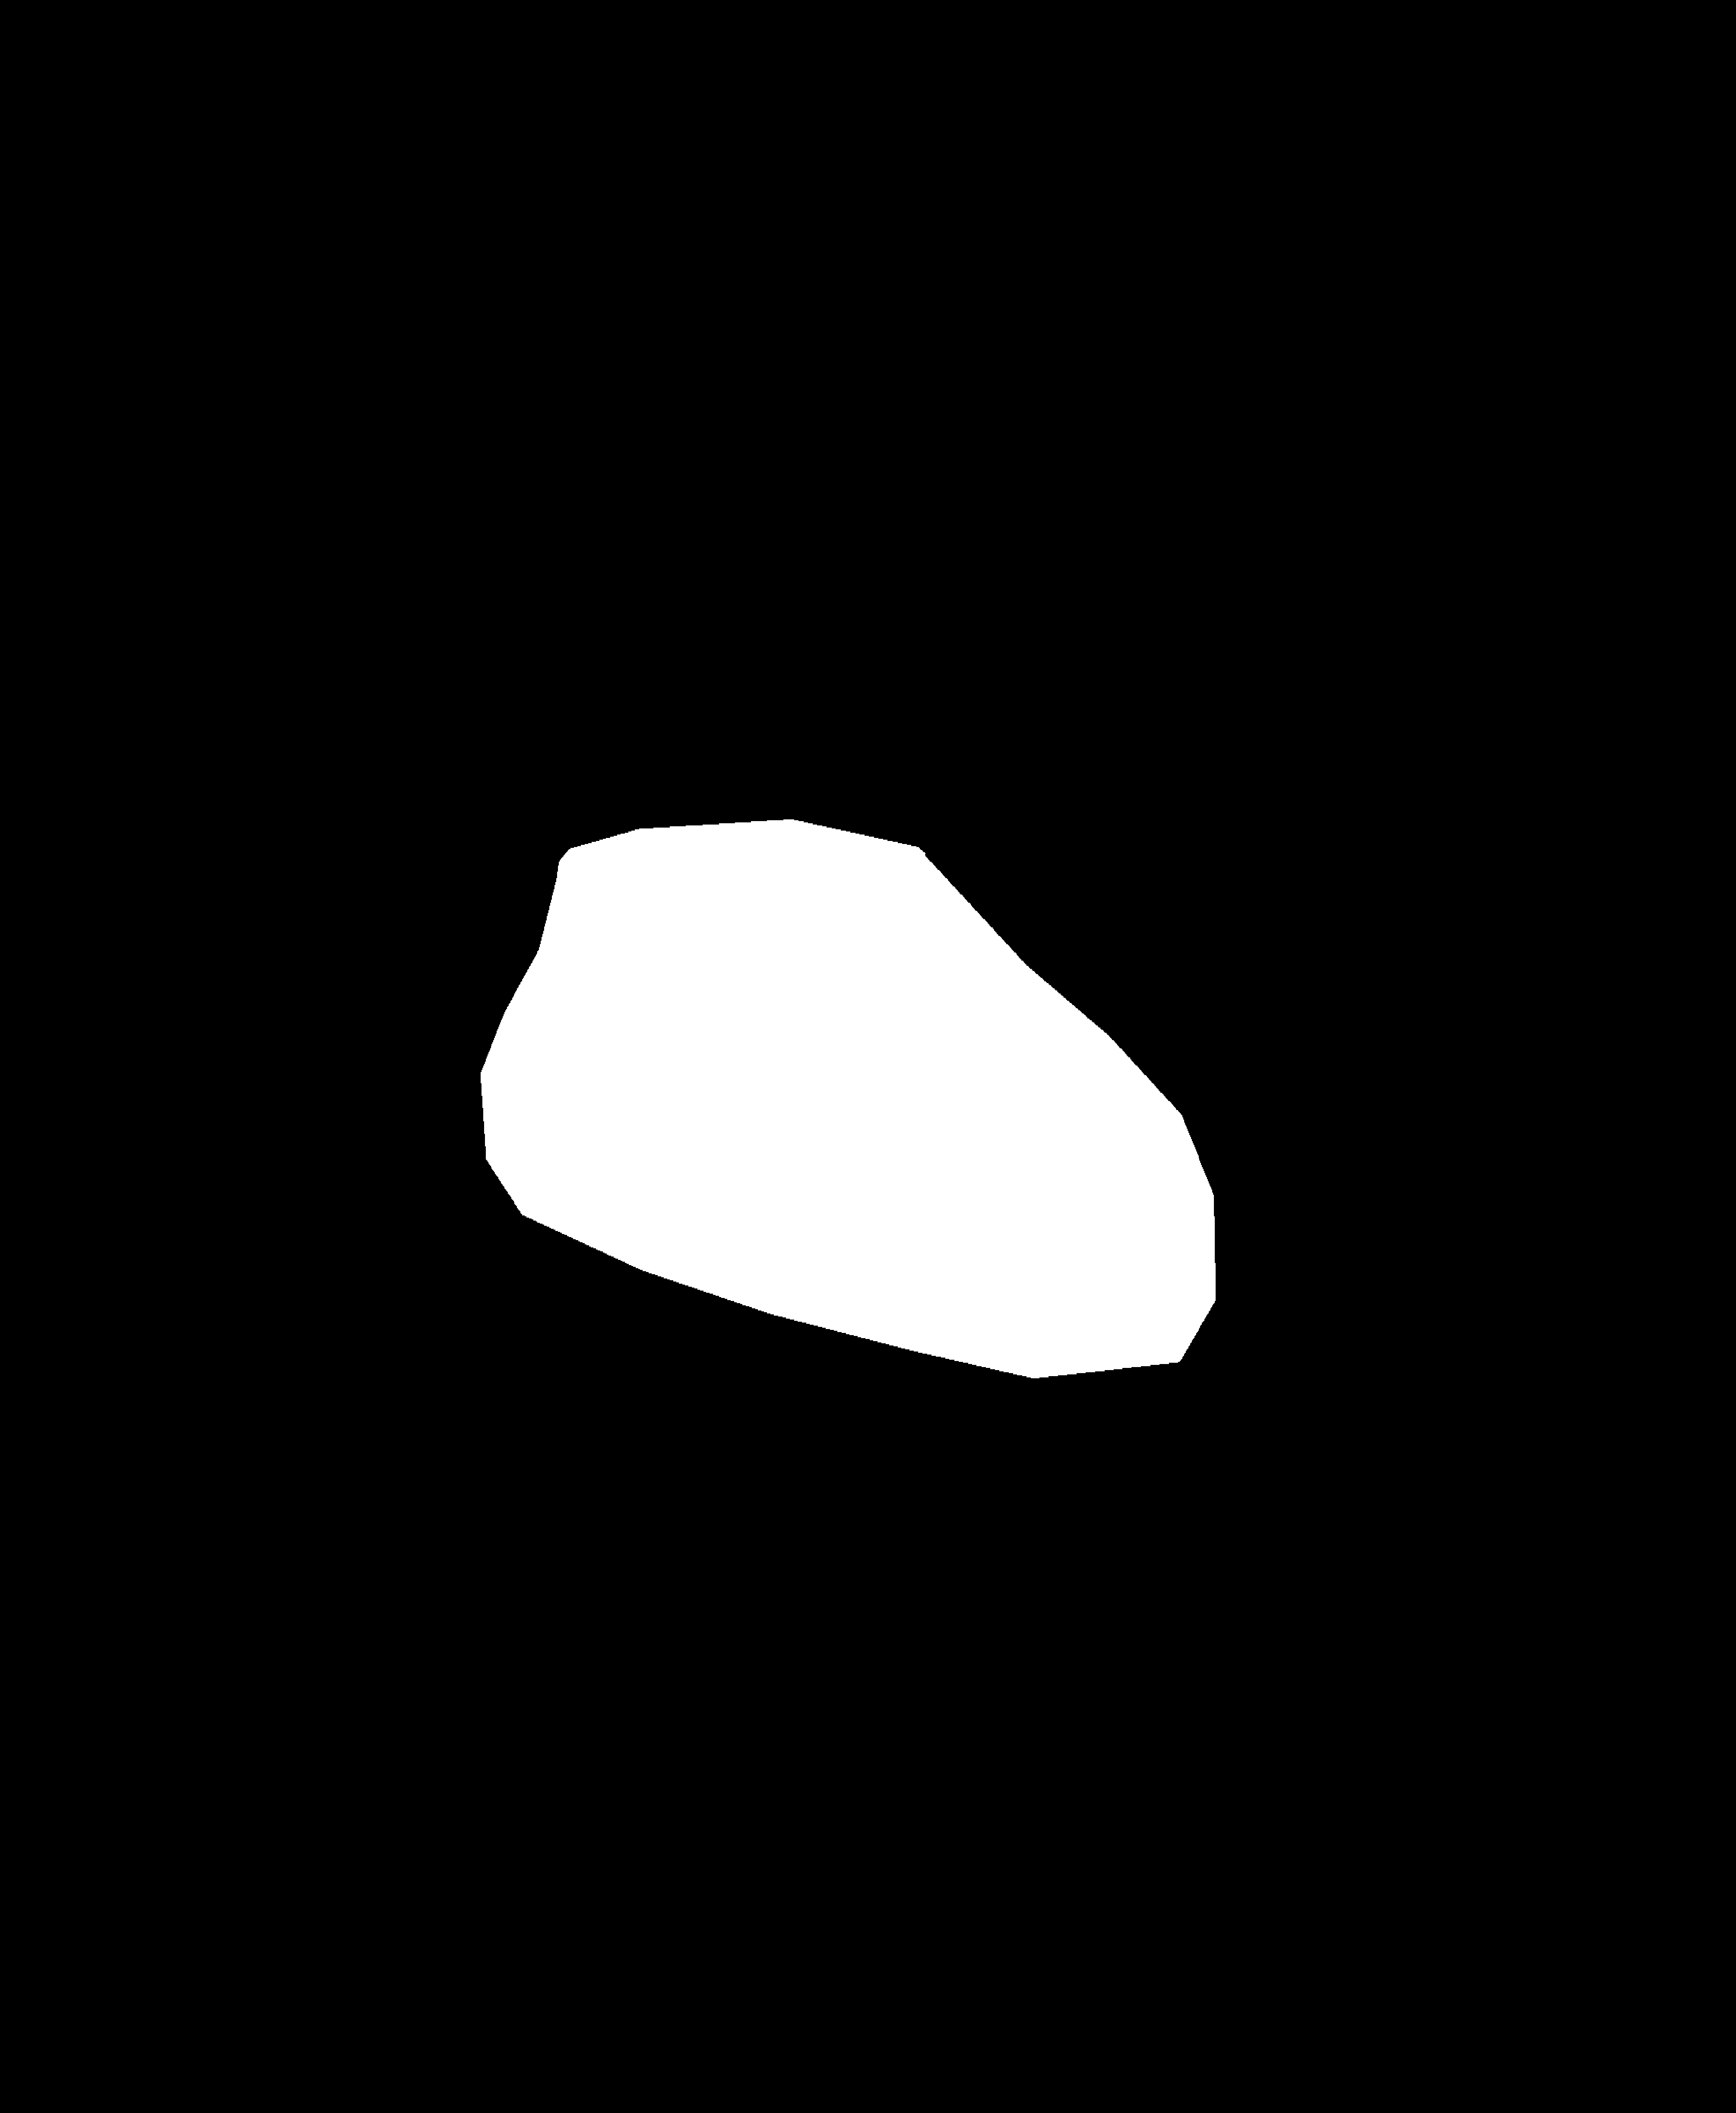heart: (484, 893, 1260, 1386)
left_lung: (174, 291, 683, 1285)
right_lung: (818, 290, 1399, 1527)
